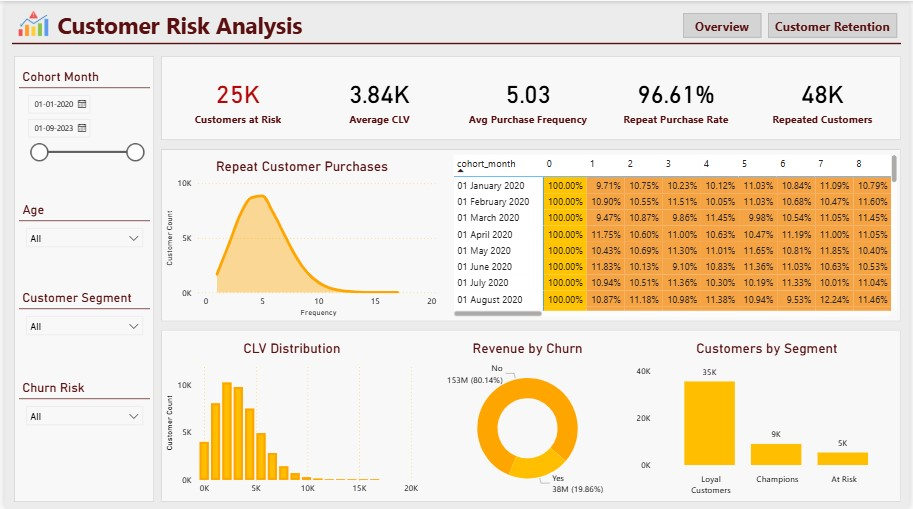

What the dashboard file says about the page in this screenshot:
{"tool":"powerbi","page":{"name":"Customer Retention","canvas":[1280,720],"ordinal":1},"visuals":[{"type":"card","fields":{"Values":["Date.Average_CLV"]},"box":[445,92.1,171.5,95],"z":0},{"type":"card","fields":{"Values":["Date.repeated_customers"]},"box":[1072.9,92.1,171.5,95],"z":1000},{"type":"card","fields":{"Values":["Date.Purchase_Frequency"]},"box":[652,92.1,178.6,95],"z":2000},{"type":"card","fields":{"Values":["Date.repeat_purchase_rate"]},"box":[864.6,92.1,172.9,95],"z":3000},{"type":"card","fields":{"Values":["ecommerce_customer_cleaned_data.high_risk_customers"]},"box":[243.8,92.1,172.9,95],"z":4000},{"type":"pivotTable","title":"Cohort Retention","fields":{"Rows":["ecommerce_customer_cleaned_data.cohort_month"],"Columns":["ecommerce_customer_cleaned_data.cohort_index"],"Values":["Date.Cohort Retention Rate %"]},"box":[630.7,212.6,639.2,239.5],"z":5000},{"type":"clusteredColumnChart","title":"CLV Distribution","fields":{"Category":["RFM.monetary (bins)"],"Y":["CountNonNull(RFM.customer_id)"]},"box":[222.5,480.5,368.5,228.2],"z":6000},{"type":"donutChart","title":"Revenue by Churn","fields":{"Y":["Sum(ecommerce_customer_cleaned_data.order_value)"],"Category":["ecommerce_customer_cleaned_data.churn"]},"box":[600.9,480.5,279.2,228.2],"z":7000},{"type":"clusteredColumnChart","title":"Customers by Segment","fields":{"Y":["CountNonNull(RFM.customer_id)"],"Category":["RFM.RFM_segment"]},"box":[890.1,480.5,379.8,228.2],"z":8000},{"type":"shape","box":[9.9,0,1260,120.5],"z":9000},{"type":"lineChart","title":"Repeat Customer Purchases","fields":{"Y":["CountNonNull(RFM.customer_id)"],"Category":["RFM.frequency"]},"box":[222.5,222.5,396.9,229.6],"z":10000},{"type":"textbox","box":[69.4,7.1,408.2,56.7],"z":11000},{"type":"slicer","title":"Cohort Month","fields":{"Values":["ecommerce_customer_cleaned_data.cohort_month"]},"box":[19.8,96.4,185.7,148.8],"z":12000},{"type":"slicer","title":"Age","fields":{"Values":["ecommerce_customer_cleaned_data.customer_age"]},"box":[19.8,284.9,185.7,85],"z":13000},{"type":"slicer","title":"Customer Segment","fields":{"Values":["RFM.RFM_segment"]},"box":[19.8,409.6,185.7,85],"z":14000},{"type":"slicer","title":"Churn Risk","fields":{"Values":["RFM.churn_risk"]},"box":[19.8,537.2,185.7,85],"z":15000},{"type":"image","box":[11.3,2.8,58.1,58.1],"z":16000},{"type":"actionButton","title":"Churn Insights","box":[960.9,17,110.6,35.4],"z":18001},{"type":"actionButton","title":"Churn Insights","box":[1081.4,17,182.8,35.4],"z":18002}]}

Visuals, with their boxes in screenshot pixels (x1, y1, x2, y2), scaled from the page's 1280x720 canvas onto the 913x509 screenshot:
card - Date.Average_CLV: [317,65,440,132]
card - Date.repeated_customers: [765,65,888,132]
card - Date.Purchase_Frequency: [465,65,592,132]
card - Date.repeat_purchase_rate: [617,65,740,132]
card - ecommerce_customer_cleaned_data.high_risk_customers: [174,65,297,132]
"Cohort Retention" pivotTable: [450,150,906,320]
"CLV Distribution" clusteredColumnChart: [159,340,422,501]
"Revenue by Churn" donutChart: [429,340,628,501]
"Customers by Segment" clusteredColumnChart: [635,340,906,501]
shape: [7,0,906,85]
"Repeat Customer Purchases" lineChart: [159,157,442,320]
textbox: [50,5,341,45]
"Cohort Month" slicer: [14,68,147,173]
"Age" slicer: [14,201,147,261]
"Customer Segment" slicer: [14,290,147,350]
"Churn Risk" slicer: [14,380,147,440]
image: [8,2,50,43]
"Churn Insights" actionButton: [685,12,764,37]
"Churn Insights" actionButton: [771,12,902,37]
